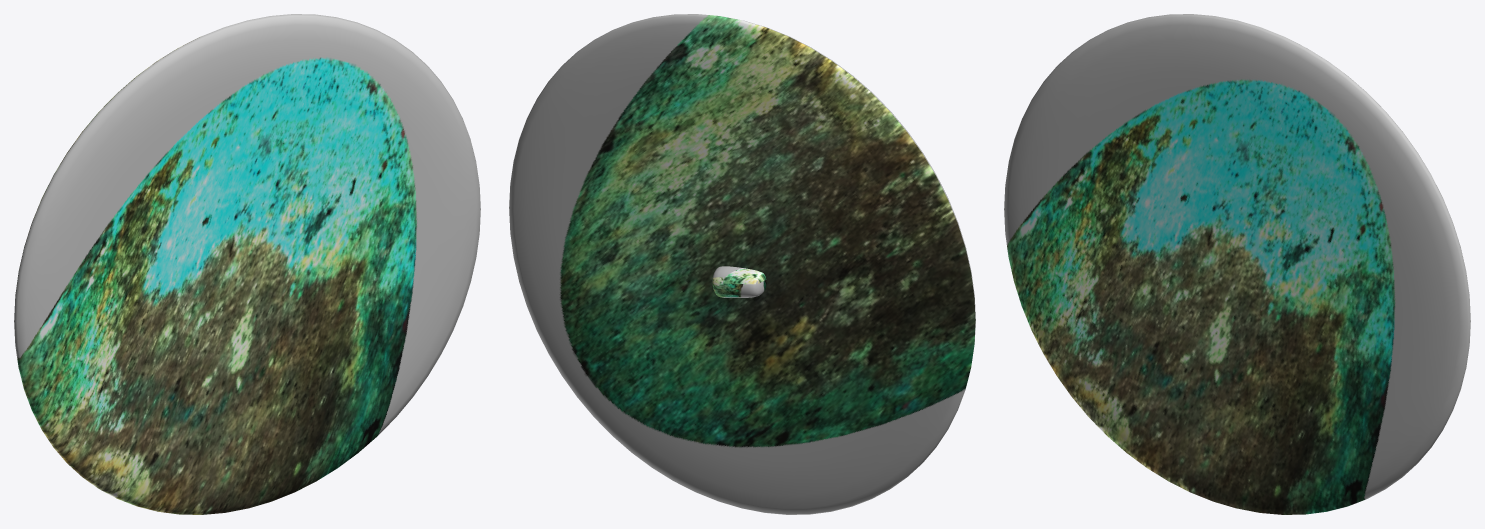
File: unkz12.fbx
The picture shows the model from 3 angles, left to right: view 1: azimuth 30°, elevation 25°; view 2: azimuth 150°, elevation 25°; view 3: azimuth 330°, elevation 25°; orthographic projection.
Visible parts, largest first — view 1: Cube; view 2: Cube; view 3: Cube.
Boxes of the visible parts, x1,y1,x2,y2 form: Cube: [14, 14, 480, 514]; Cube: [509, 14, 975, 514]; Cube: [1004, 14, 1470, 514].
Bounding box in the file's own units: 843 × 843 × 65.9.
